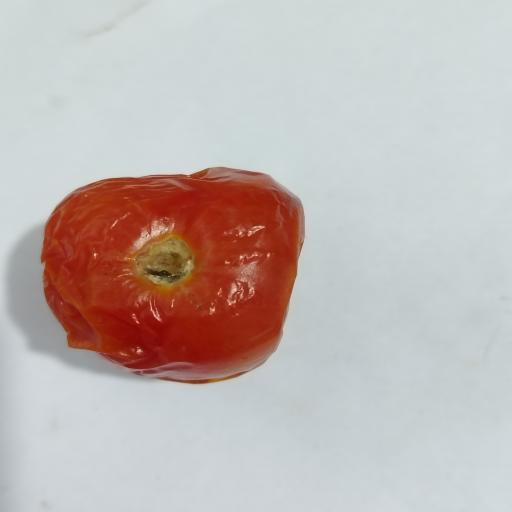spoiled: (41, 167, 304, 382)
